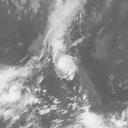cyclone: (56, 55, 78, 80)
